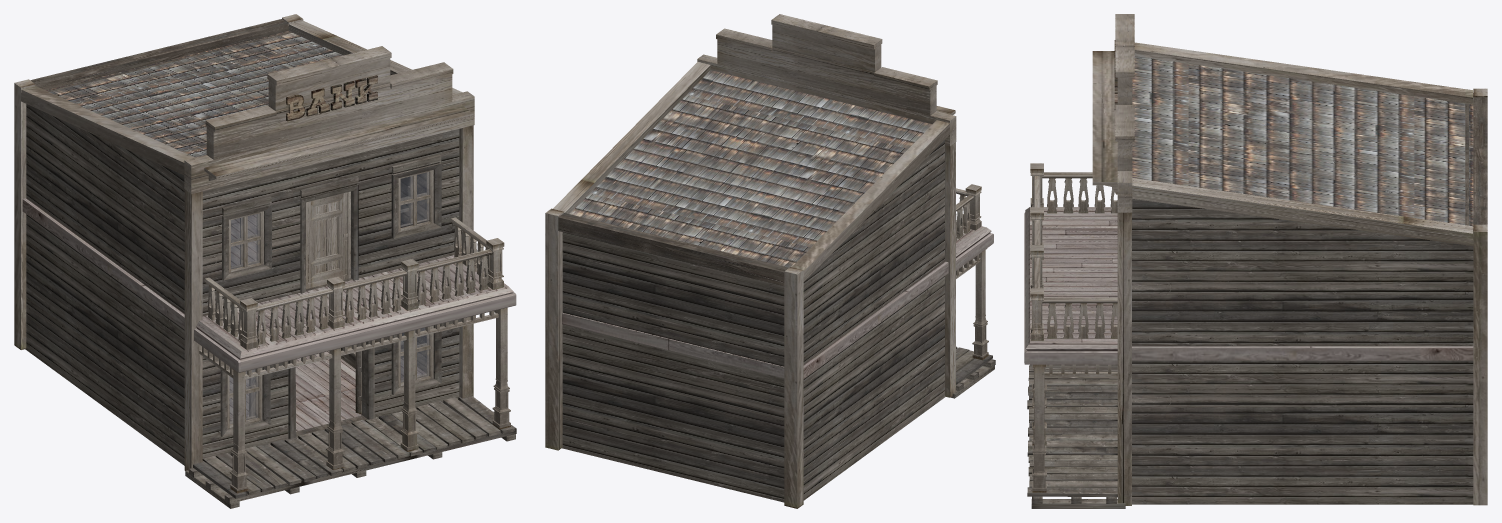
Rendered from bank.glb.
The picture shows the model from 3 angles, left to right: view 1: azimuth 30°, elevation 25°; view 2: azimuth 150°, elevation 25°; view 3: azimuth 270°, elevation 25°; orthographic projection. The views are drawn at different scales.
Parts seen in each view (by area): view 1: interior_exterior_0, board_signpost_25, balcony_32, parapet.002_44, gasket_24, loft_45, door_2_59, gasket.002_29, gasket.004_31, floor_34, gasket.003_27, gasket.001_26 (+36 smaller); view 2: interior_exterior_0, board_signpost_25, floor_34, gasket.003_27, gasket.004_31, gasket.006_28, gasket.002_29, gasket.005_30, gasket_24, pillar_33, balcony_32, parapet_42 (+1 smaller); view 3: interior_exterior_0, balcony_32, gasket.005_30, floor_34, gasket.002_29, gasket.001_26, gasket.006_28, board_signpost_25, loft_45, parapet.001_43, gasket.004_31, parapet_42 (+21 smaller).
Boxes of the visible parts, x1,y1,x2,y2 form: interior_exterior_0: (25, 31, 459, 465); board_signpost_25: (184, 46, 474, 193); balcony_32: (194, 255, 516, 372); parapet.002_44: (256, 249, 492, 344); gasket_24: (184, 189, 202, 470); loft_45: (204, 105, 473, 180); door_2_59: (306, 191, 350, 288); gasket.002_29: (21, 86, 194, 175); gasket.004_31: (30, 19, 288, 90); floor_34: (22, 198, 256, 329); gasket.003_27: (14, 79, 35, 349); gasket.001_26: (459, 125, 473, 398); interior_exterior_0: (562, 70, 945, 502); board_signpost_25: (697, 14, 956, 146); floor_34: (562, 261, 948, 378); gasket.003_27: (784, 267, 803, 508); gasket.004_31: (558, 213, 788, 285); gasket.006_28: (545, 208, 564, 450); gasket.002_29: (792, 120, 949, 281); gasket.005_30: (553, 62, 710, 213); gasket_24: (945, 142, 955, 397); pillar_33: (972, 248, 988, 360); balcony_32: (956, 220, 993, 270); parapet_42: (956, 195, 973, 240); interior_exterior_0: (1132, 56, 1473, 504); balcony_32: (1024, 207, 1117, 364); gasket.005_30: (1132, 178, 1473, 246); floor_34: (1132, 346, 1473, 360); gasket.002_29: (1134, 42, 1473, 104); gasket.001_26: (1117, 212, 1131, 505); gasket.006_28: (1473, 224, 1487, 505); board_signpost_25: (1115, 14, 1134, 212); loft_45: (1092, 51, 1117, 194); parapet.001_43: (1042, 297, 1117, 338); gasket.004_31: (1473, 97, 1487, 224); parapet_42: (1042, 172, 1117, 213).
Size of the model in its own units: 7.22 by 9.07 by 9.68.
Materials: 9 (8 with a texture image).
